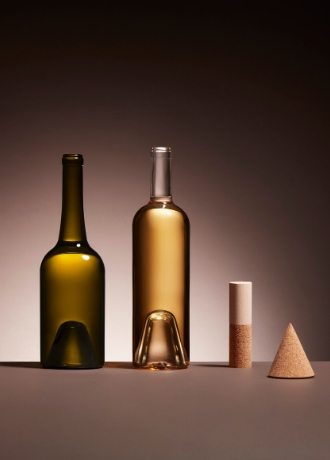glass_bottle: (126, 142, 194, 376), (37, 151, 108, 372)
